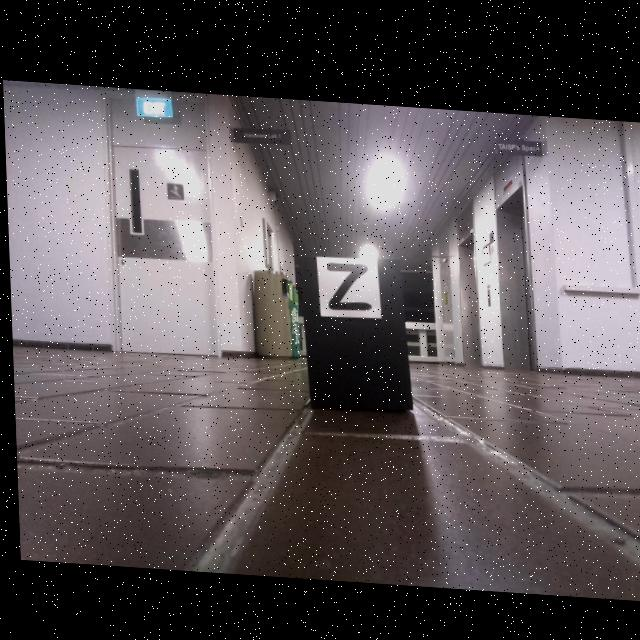Z: (326, 259, 368, 305)
